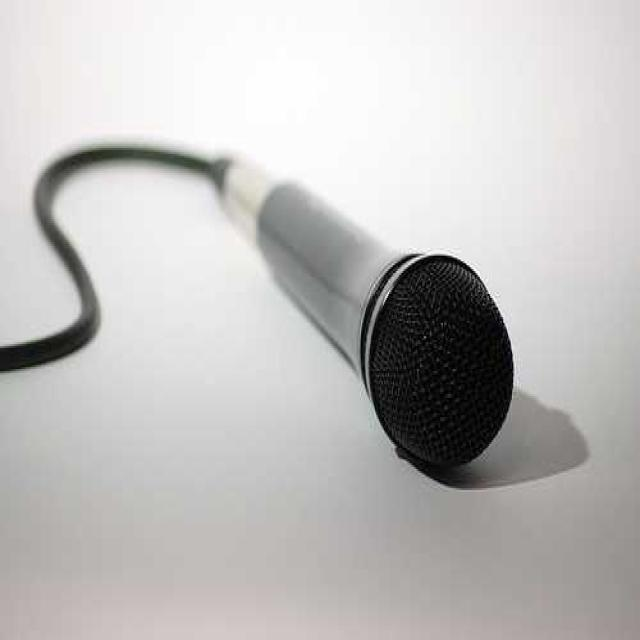microphone: (224, 163, 517, 477)
